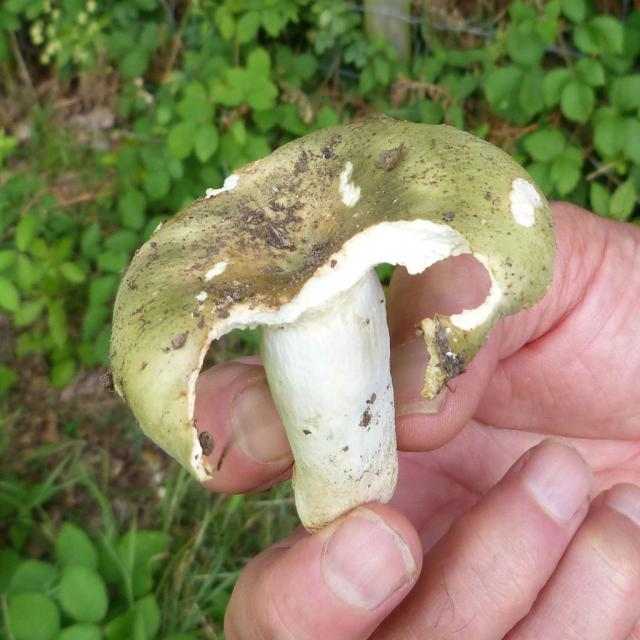Mushroom: (109, 115, 560, 531)
